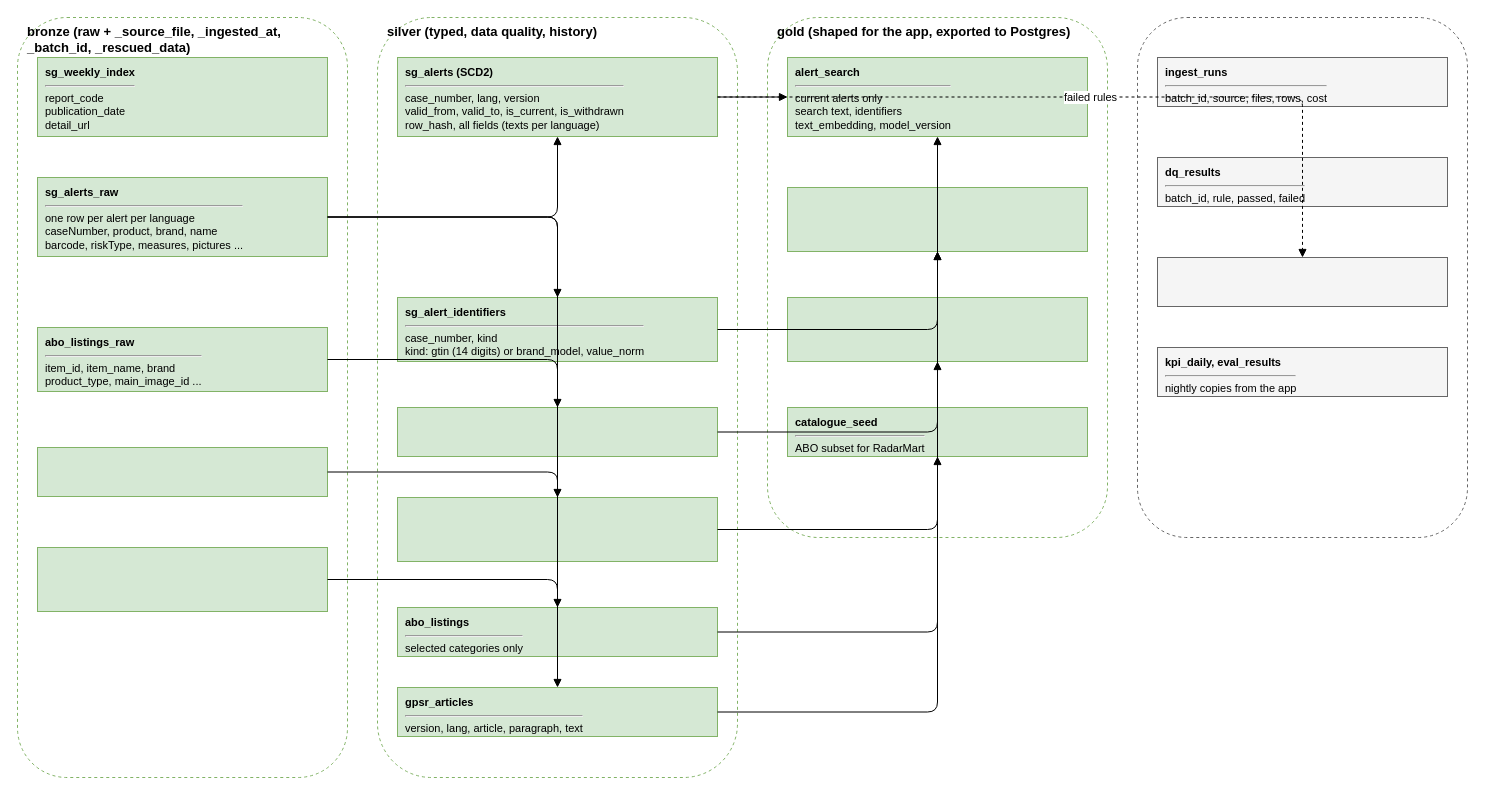
This 1485x795 diagram has some shape labels left out. Here are the shapes that lost their labels. From the top down, the box of each, then its label:
(786, 186, 1088, 252): alert_image_vectors sha256, case_number image_embedding, model_version
(1136, 16, 1468, 538): ops
(1156, 256, 1448, 306): quarantine_* rejected rows + reason
(786, 296, 1088, 362): gpsr_chunks chunk_id, citation, text embedding, model_version
(396, 406, 718, 456): sg_alert_images case_number, sha256, ordinal, is_main
(36, 446, 328, 496): abo_images_meta_raw image_id, height, width, path
(396, 496, 718, 562): images sha256, bytes, width, height phash, mime, licence, source_url
(36, 546, 328, 612): gpsr_raw one row per document version + language html, source_url, retrieved_at
